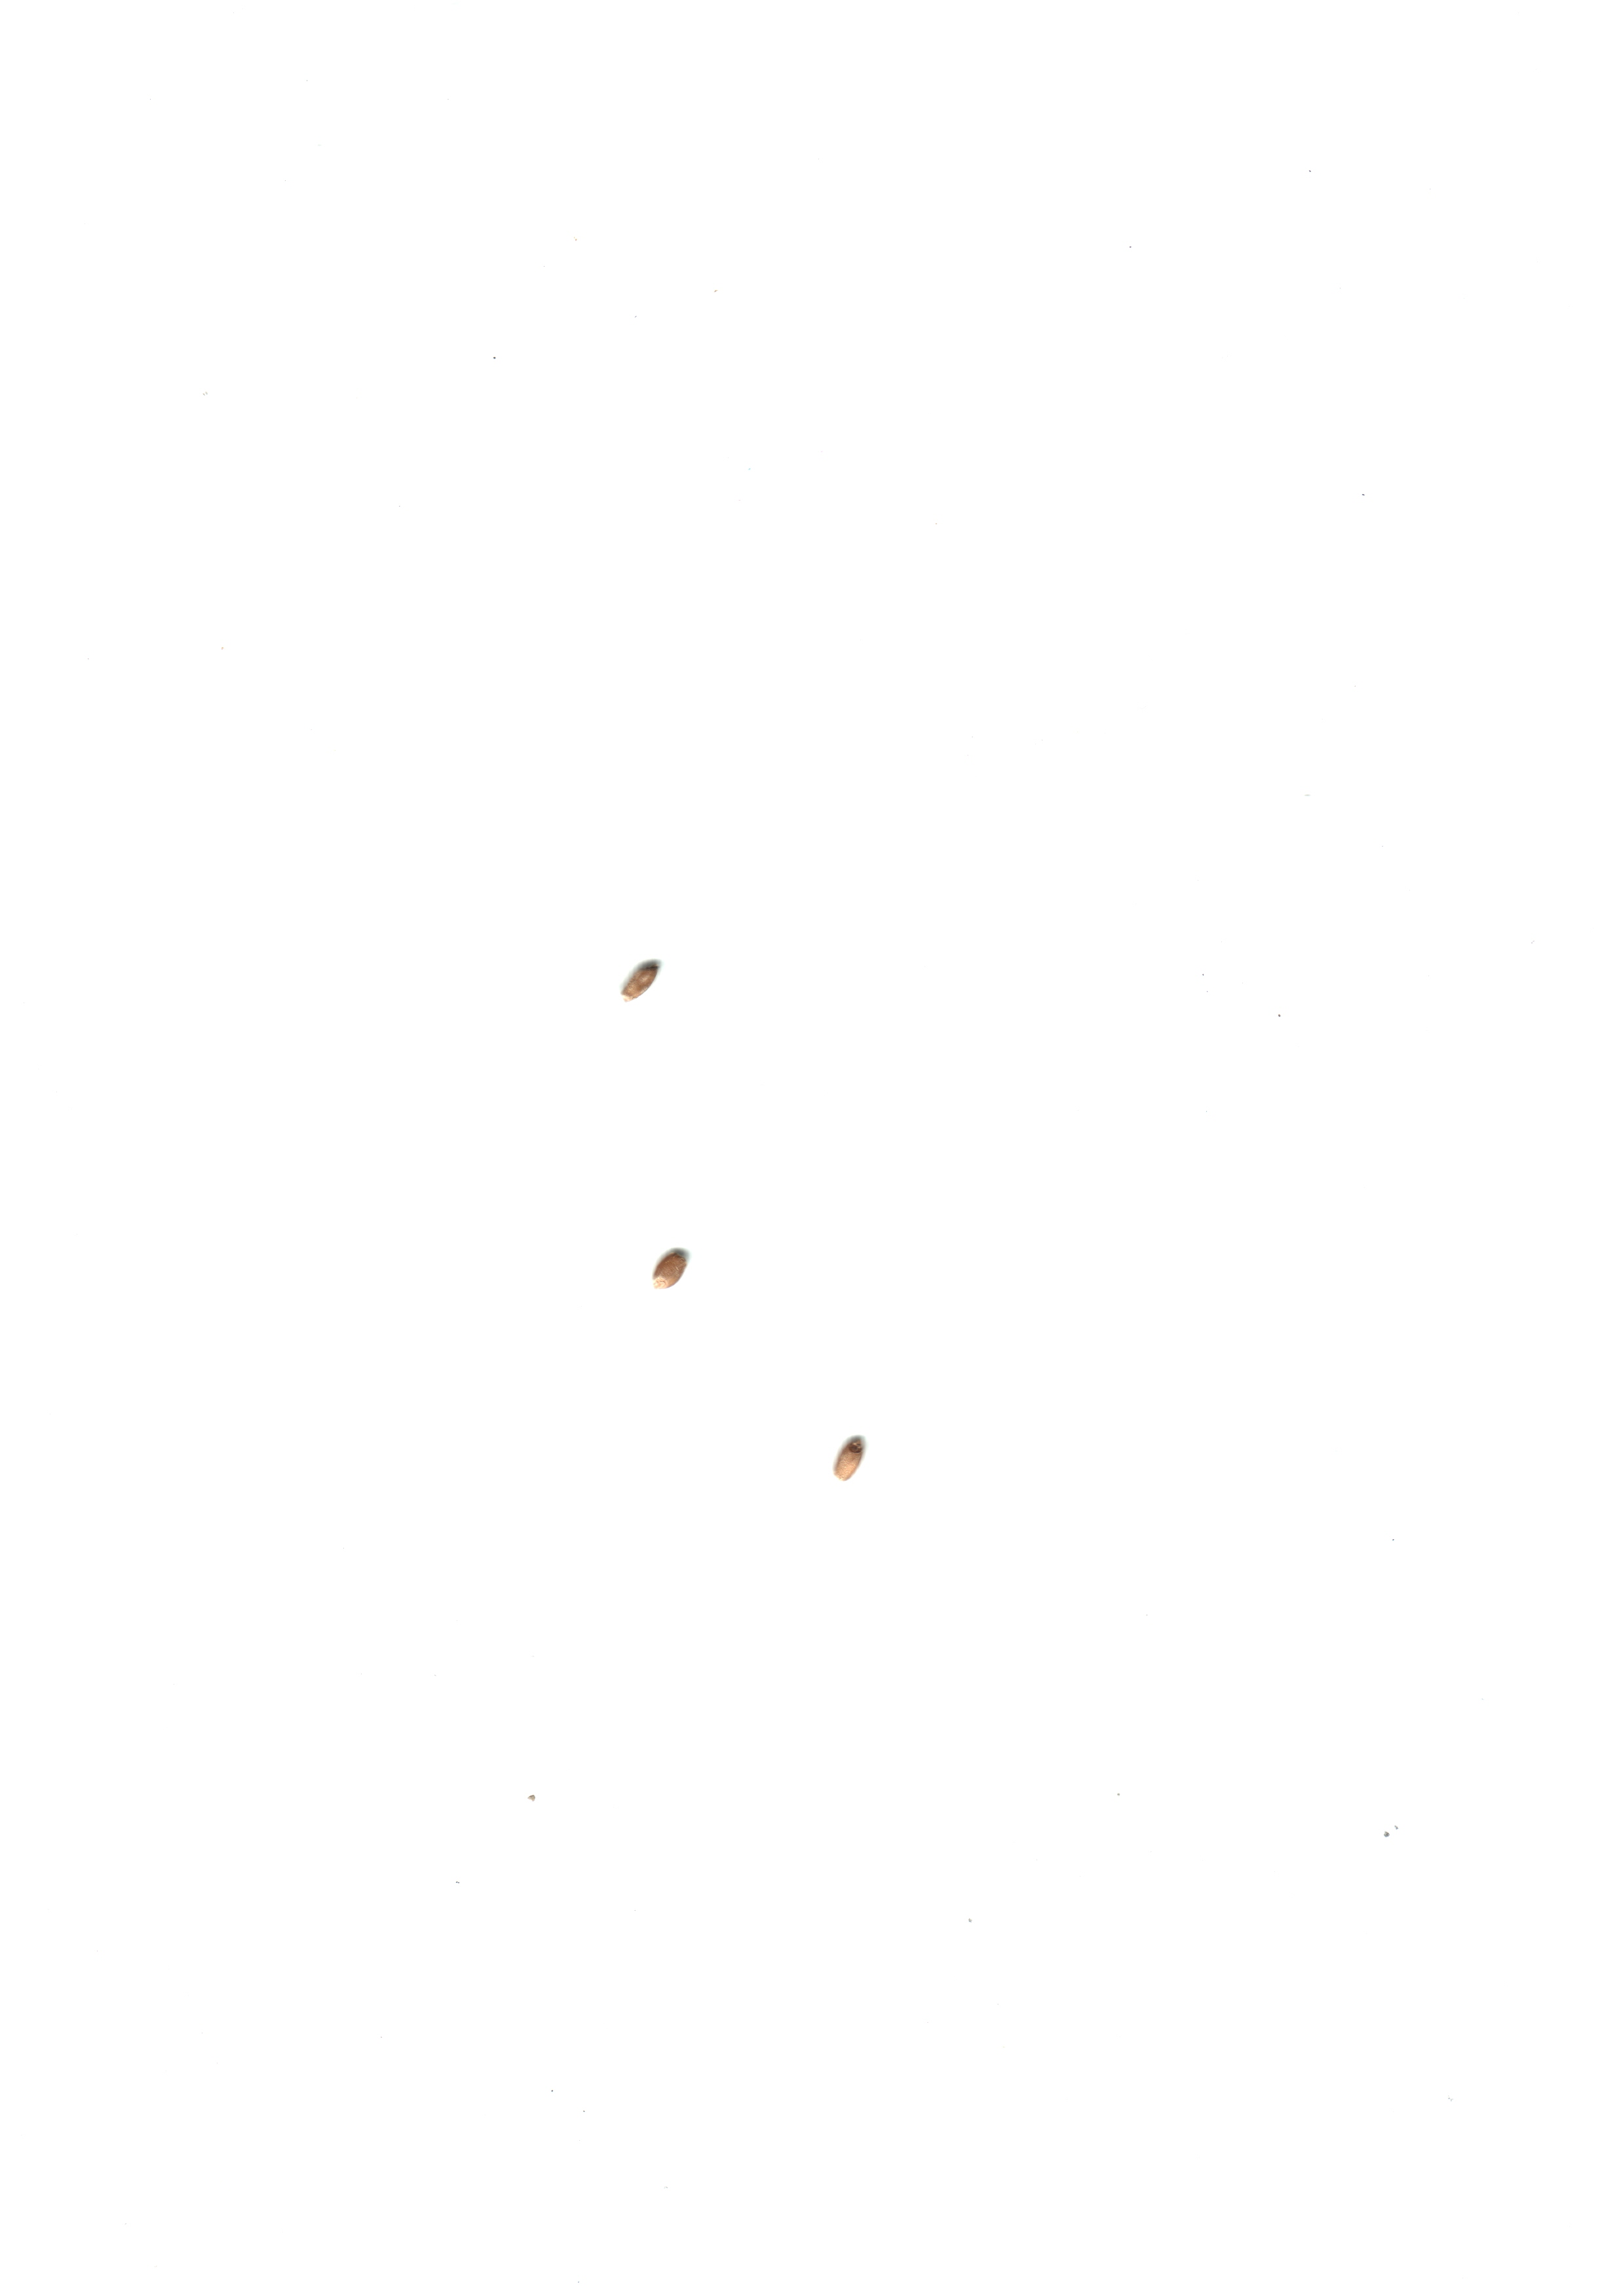grains_2_5mm: (811, 1409, 894, 1499), (629, 1218, 711, 1307), (599, 934, 682, 1024)
